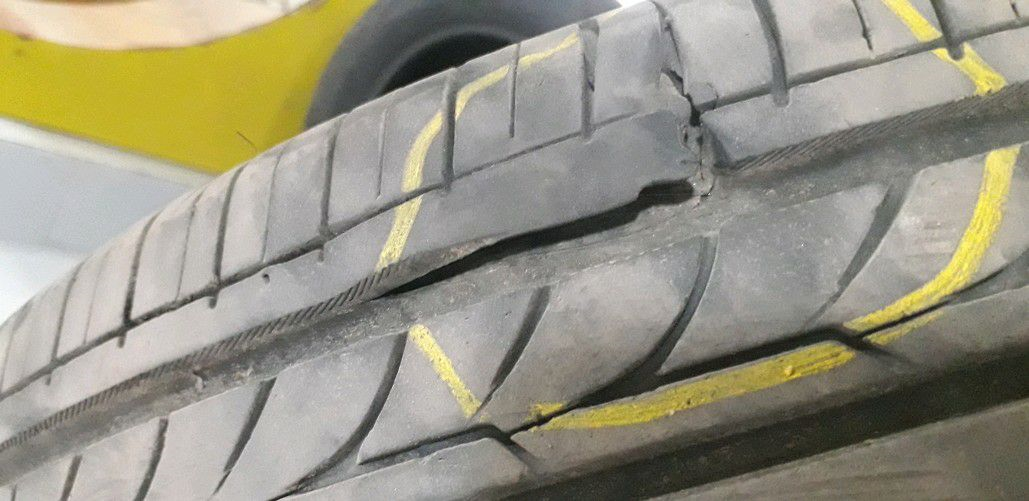tr: (647, 45, 754, 205)
